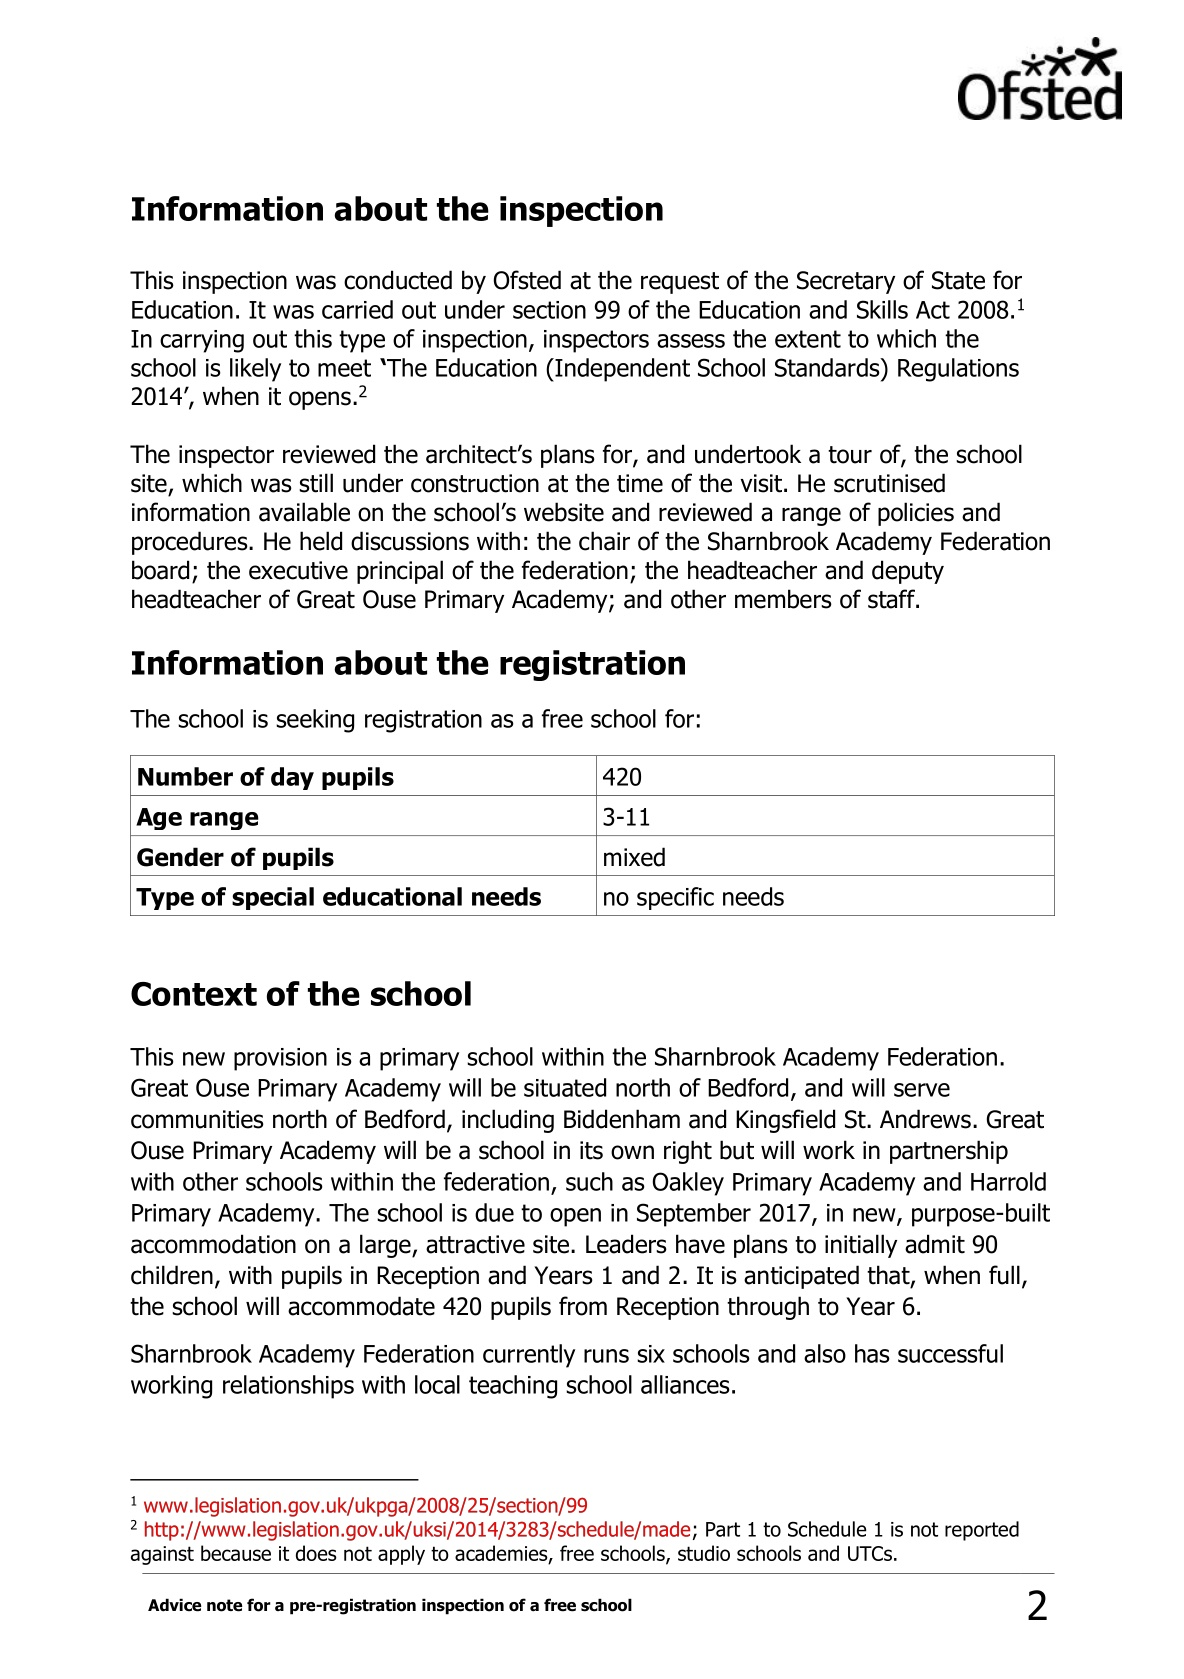full_lined: (129, 753, 1056, 918)
